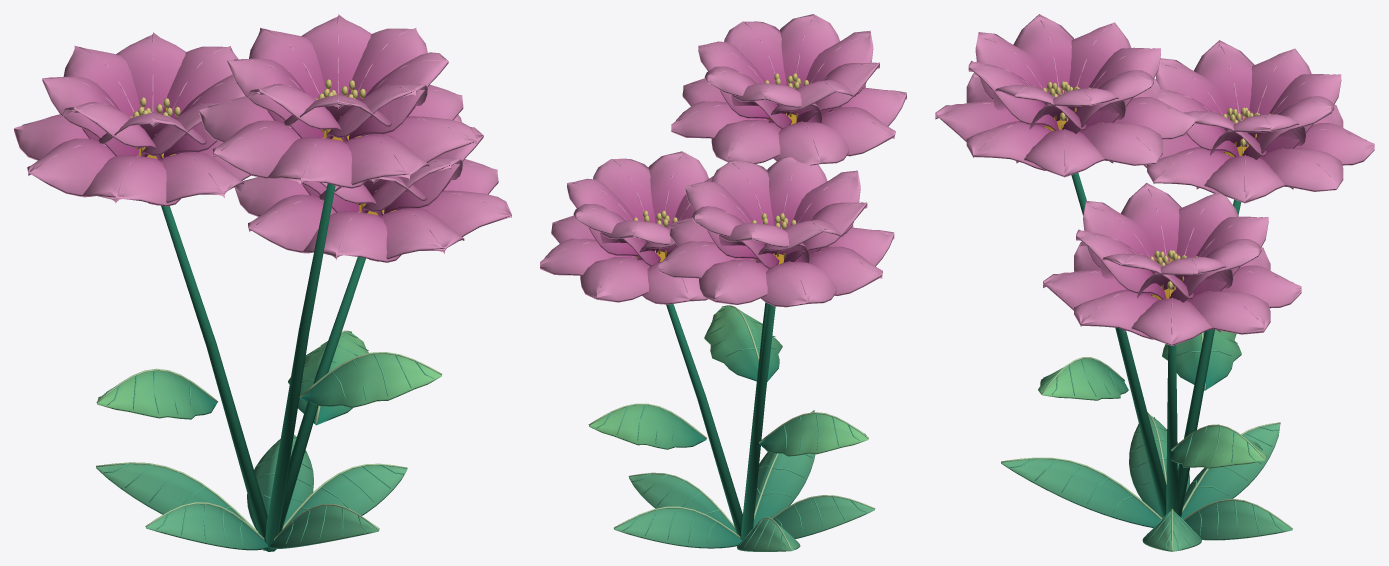
Rendered from enchanted-cosmos.glb.
The picture shows the model from 3 angles, left to right: view 1: azimuth 30°, elevation 25°; view 2: azimuth 150°, elevation 25°; view 3: azimuth 270°, elevation 25°; orthographic projection. The views are drawn at different scales.
Parts seen in each view (by area): view 1: enchanted-cosmos-sculpted-details; view 2: enchanted-cosmos-sculpted-details; view 3: enchanted-cosmos-sculpted-details.
Boxes of the visible parts, x1,y1,x2,y2 form: enchanted-cosmos-sculpted-details: (14, 14, 511, 551); enchanted-cosmos-sculpted-details: (540, 14, 906, 551); enchanted-cosmos-sculpted-details: (935, 14, 1374, 551).
Bounding box in the file's own units: 0.8353 × 1 × 0.8223.
